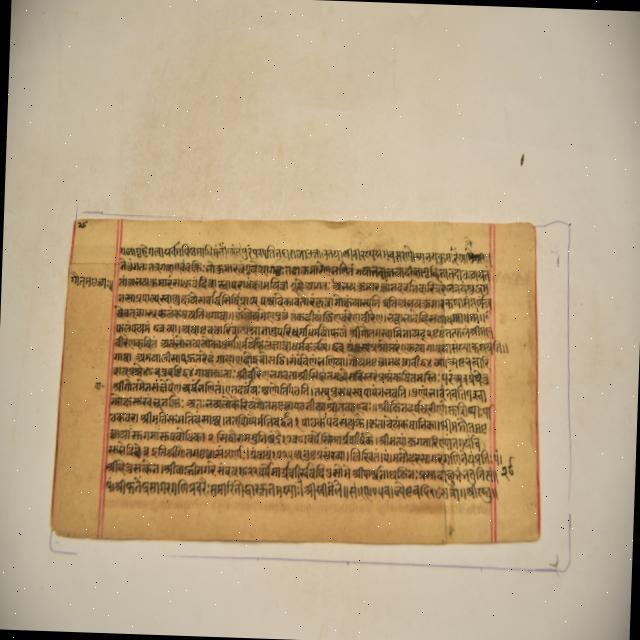text_paragraph: (47, 213, 537, 539)
